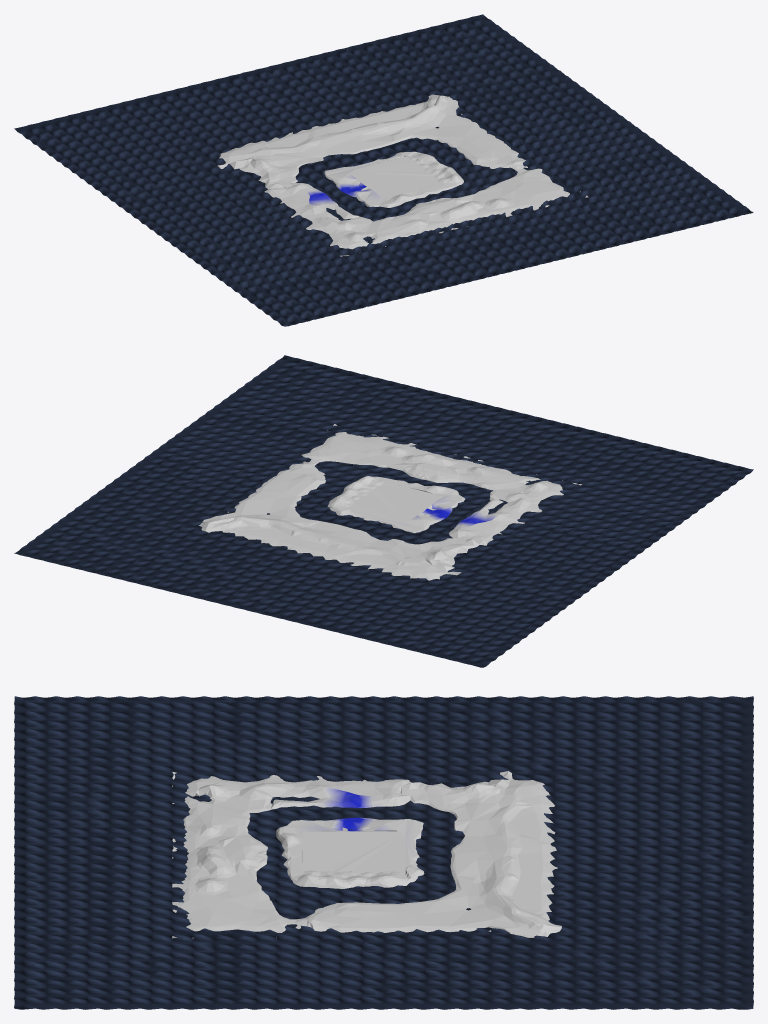
The model's file is Collada_Nature_02.fbx.
The picture shows the model from 3 angles, top to bottom: view 1: azimuth 30°, elevation 25°; view 2: azimuth 150°, elevation 25°; view 3: azimuth 270°, elevation 25°; orthographic projection. The views are drawn at different scales.
Parts seen in each view (by area): view 1: Wata, Mud; view 2: Wata, Mud; view 3: Wata, Mud.
Part boxes in pixels (<box>): Wata: <box>14,14,753,326</box>; Mud: <box>217,94,588,256</box>; Wata: <box>14,355,753,667</box>; Mud: <box>198,424,582,580</box>; Wata: <box>14,696,753,1009</box>; Mud: <box>172,771,561,938</box>.
Size of the model in its own units: 175052 by 17849 by 175195.
